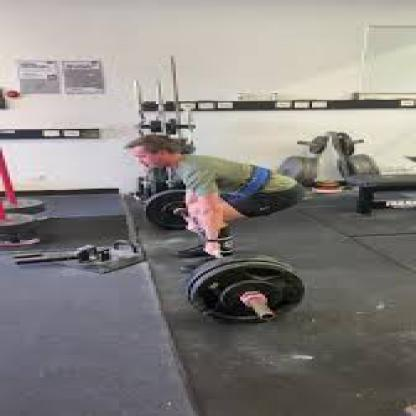barbell: (145, 190, 306, 324)
